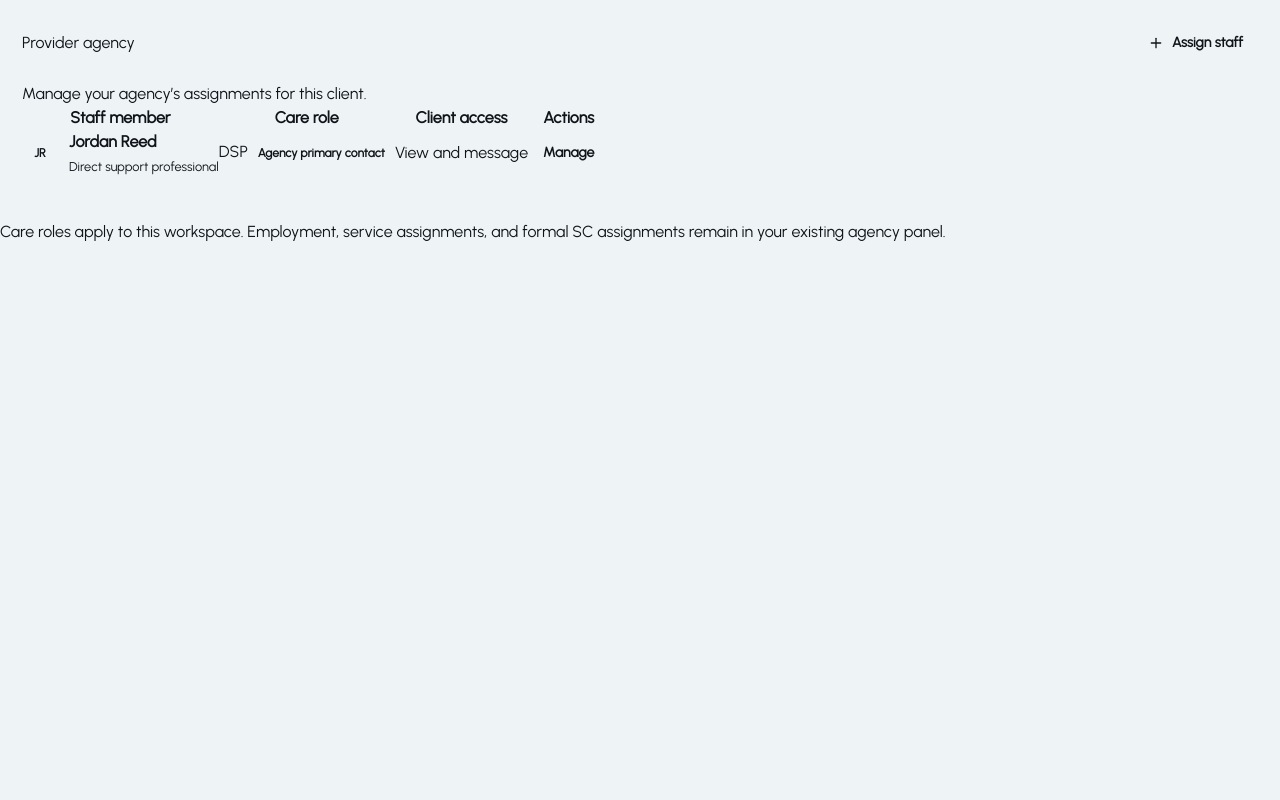
Scenario: requires a removal reason and clears the optional contact without needing a replacement
Later steps or results of the test are not shown.
Click the button "Manage".
click(569, 153)  # box x1=528 y1=132 x2=609 y2=174
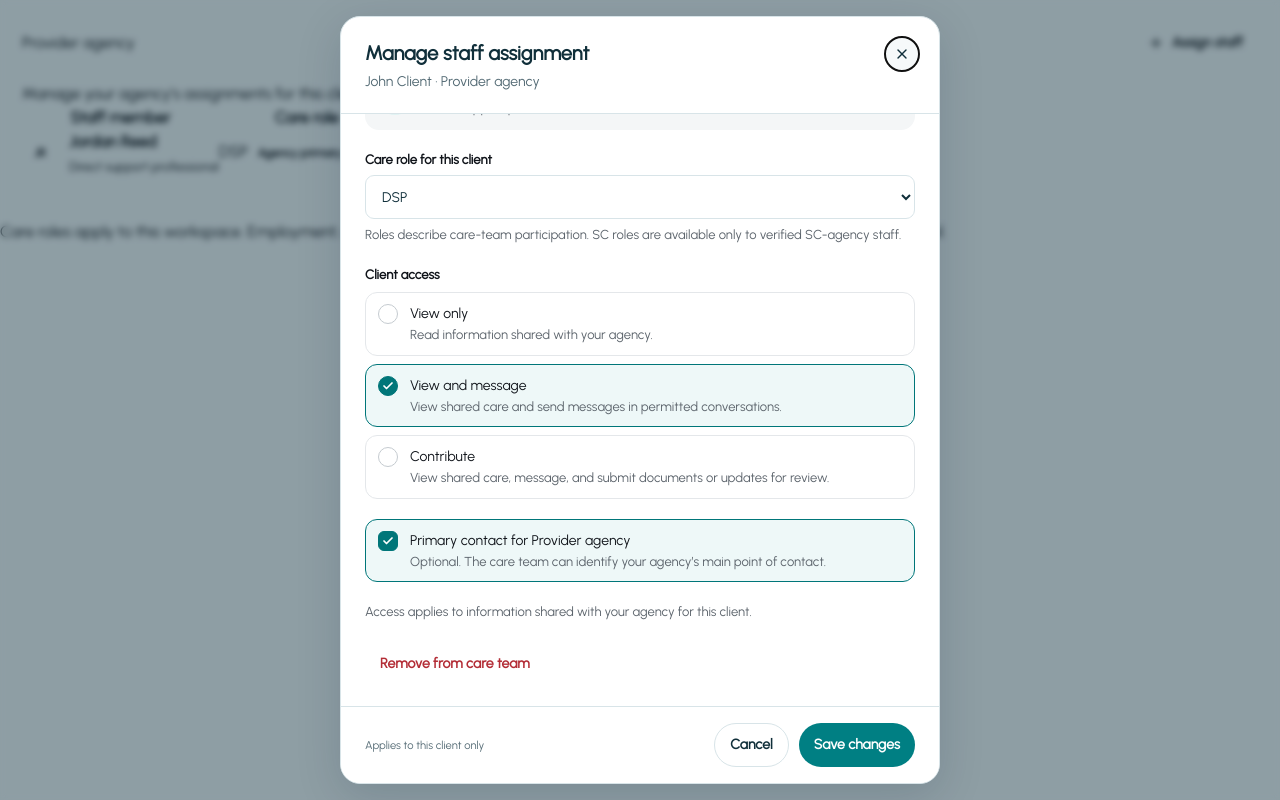
Click the button "Remove from care team".
click(455, 664)  # box x1=365 y1=642 x2=545 y2=686
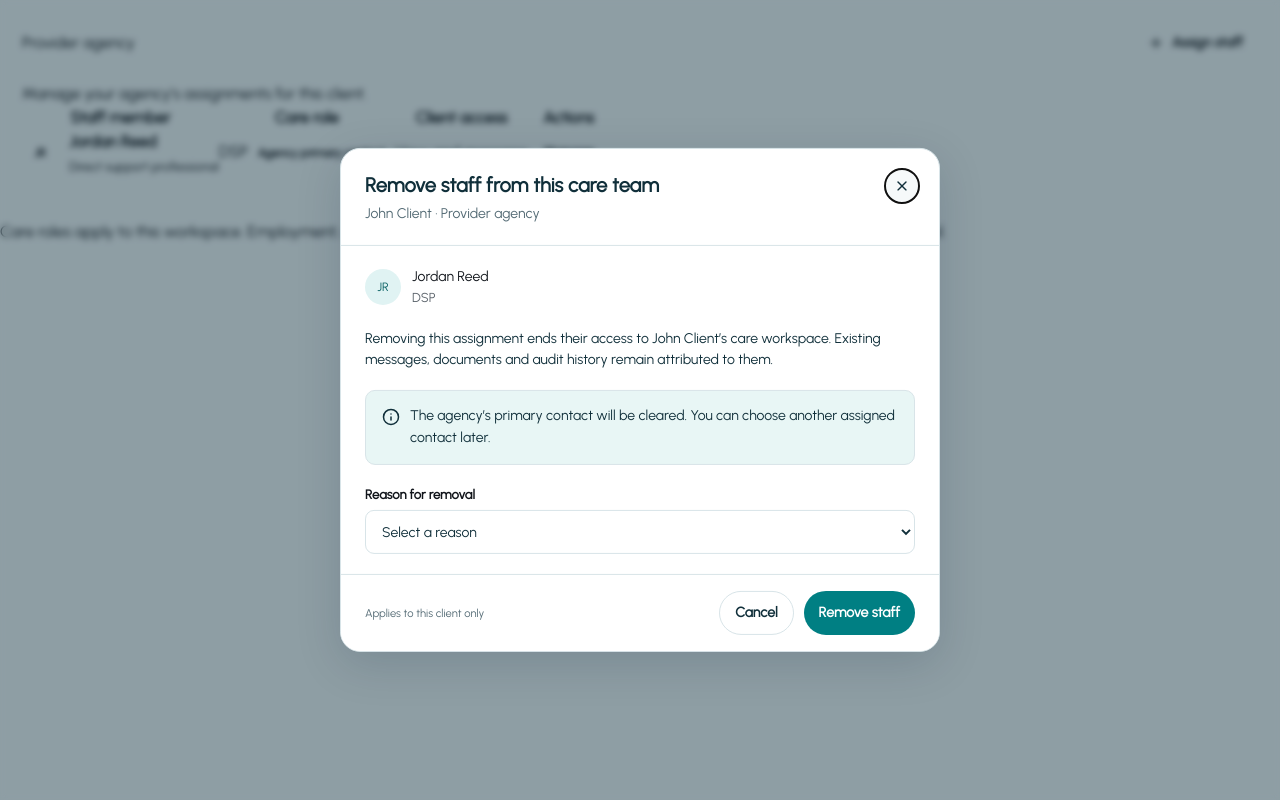
Result: the text "primary contact will be cleared" is shown at x1=410 y1=407 x2=895 y2=446
Submit the form named "Remove staff", box x1=341 y1=246 x2=939 y2=651
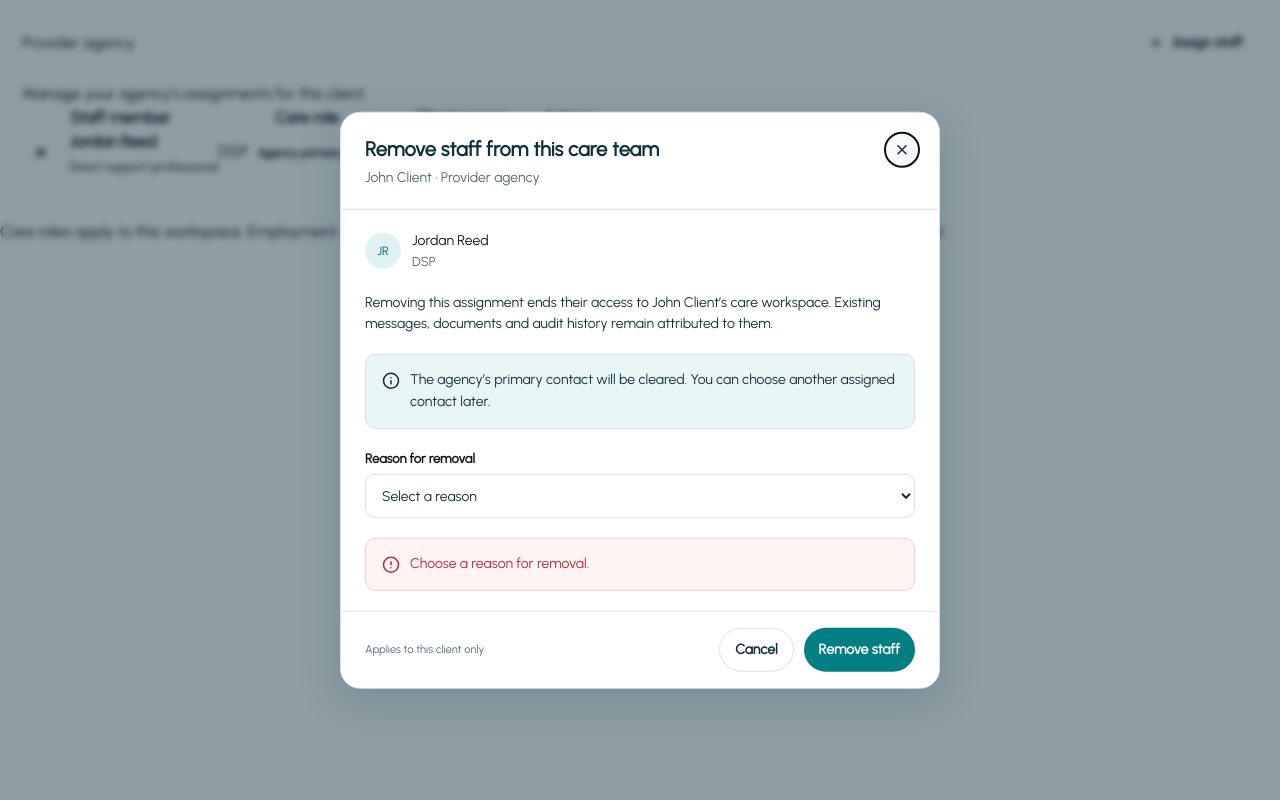
Result: the text "Choose a reason for removal." is shown at x1=410 y1=555 x2=589 y2=572
